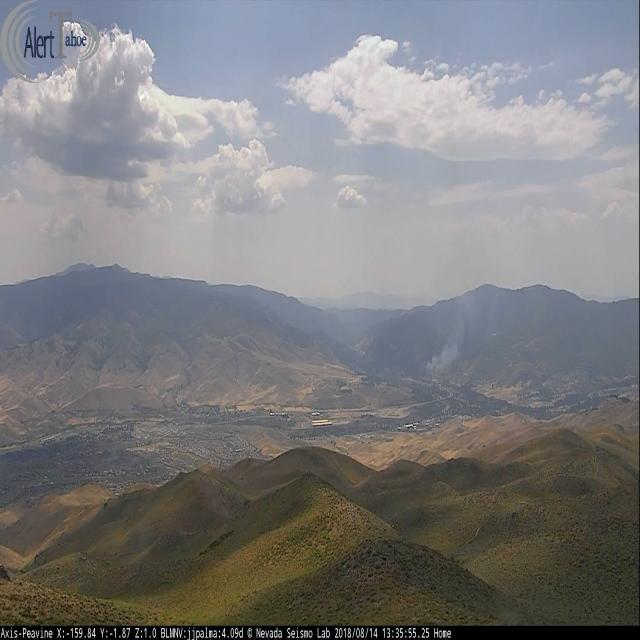smoke: (428, 328, 459, 381)
